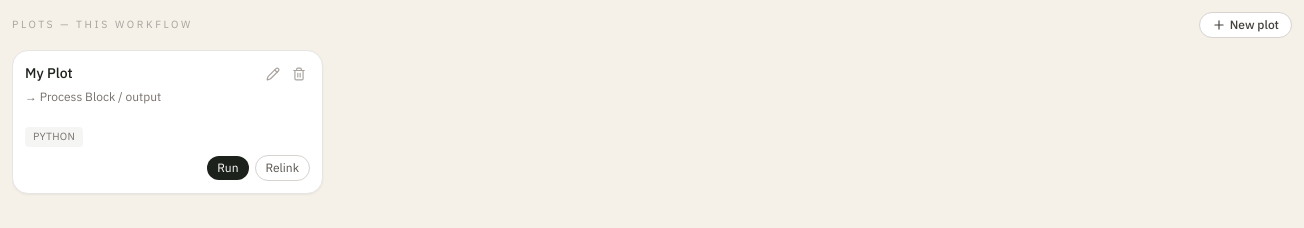
it: PlotsTab › surfaces a run error without publishing a result
Click the button with aria-label "Run plot My Plot". click: (228, 168)
box: [207,156,248,180]
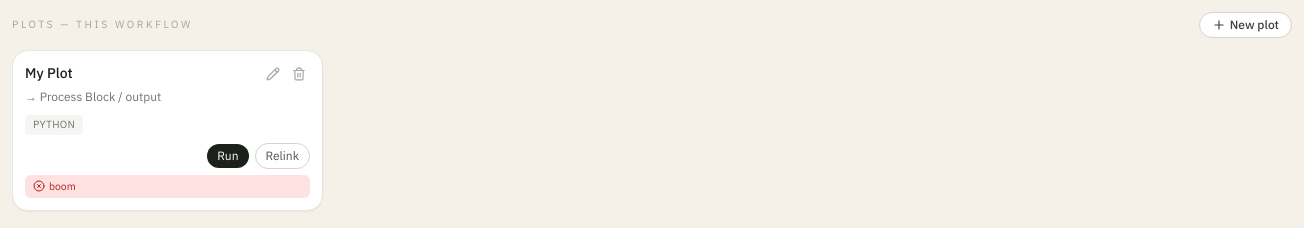
Now the text "boom" is shown, box [49,179,76,194]
